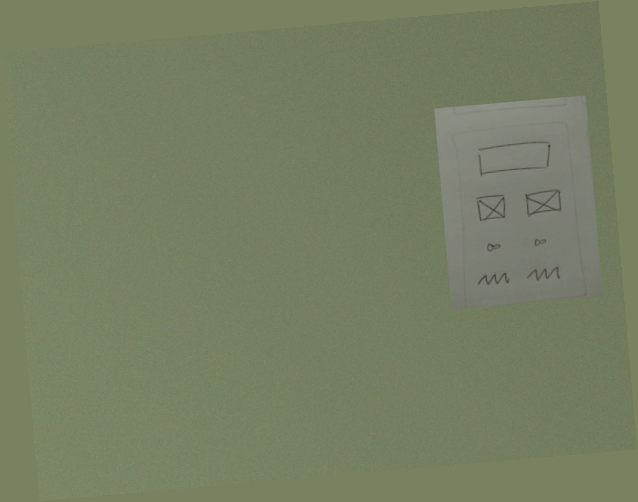image: (521, 188, 567, 220), (472, 193, 510, 224)
switch: (483, 240, 506, 255), (530, 236, 552, 251)
text: (473, 268, 516, 292), (523, 263, 567, 286)
text_input: (473, 140, 556, 177)
